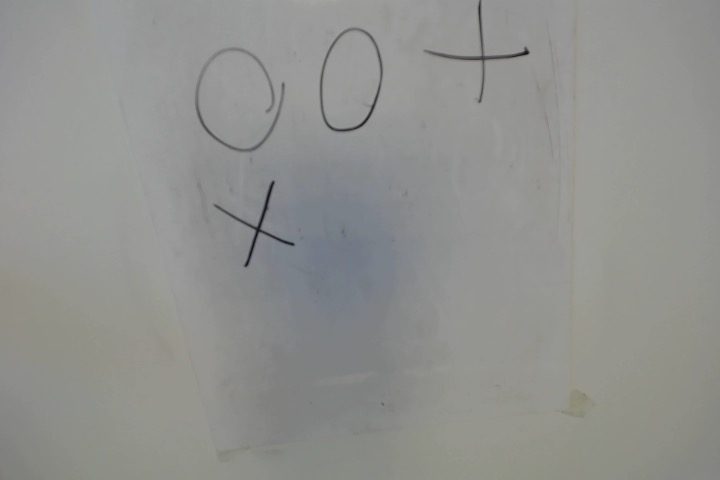0: (192, 44, 291, 154), (318, 22, 385, 133)
x: (428, 1, 531, 108), (205, 176, 298, 264)
